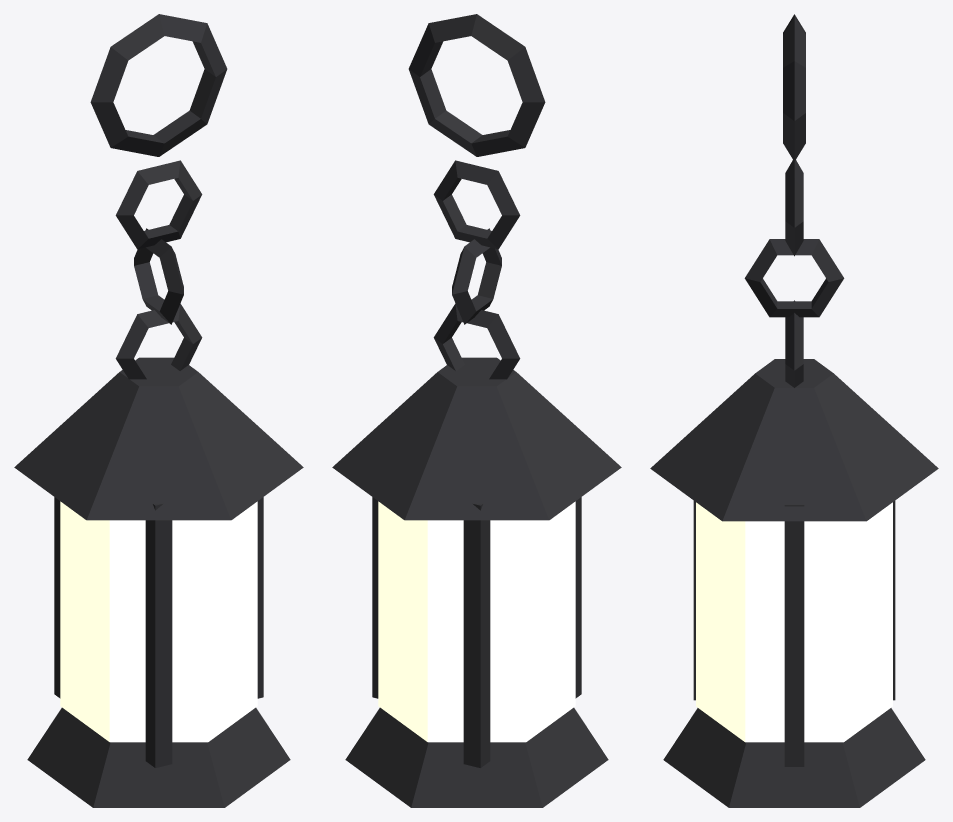
Rendered from grove_hanging_lantern.glb.
The picture shows the model from 3 angles, left to right: view 1: azimuth 30°, elevation 25°; view 2: azimuth 150°, elevation 25°; view 3: azimuth 270°, elevation 25°; orthographic projection.
Parts seen in each view (by area): view 1: grove_hanging_lantern; view 2: grove_hanging_lantern; view 3: grove_hanging_lantern.
Boxes of the visible parts, x1,y1,x2,y2 form: grove_hanging_lantern: (14, 14, 303, 807); grove_hanging_lantern: (332, 14, 621, 807); grove_hanging_lantern: (650, 14, 938, 807).
Size of the model in its own units: 0.1905 by 0.625 by 0.22.
